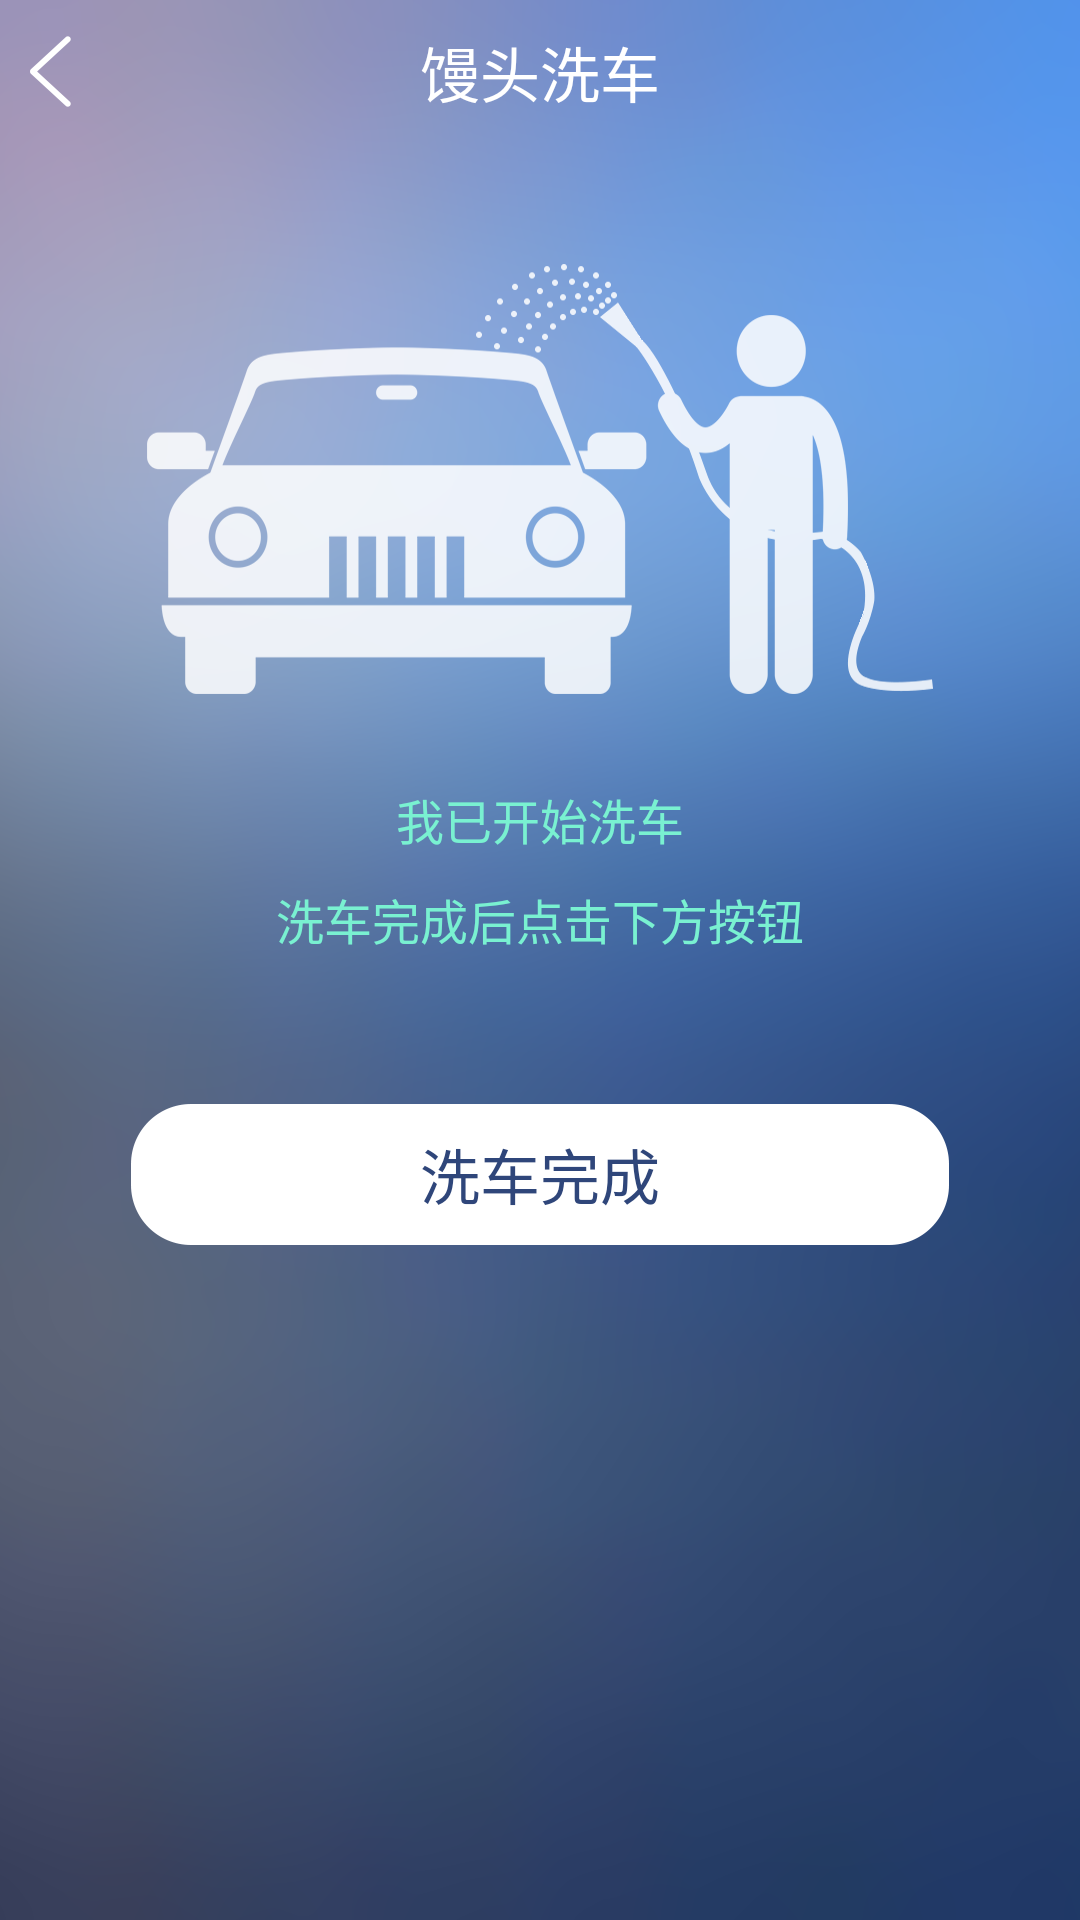

Point at icon controls on the screen. Image size 1080w x 1920h, points as [x,y].
titlebar back: [50,71]
